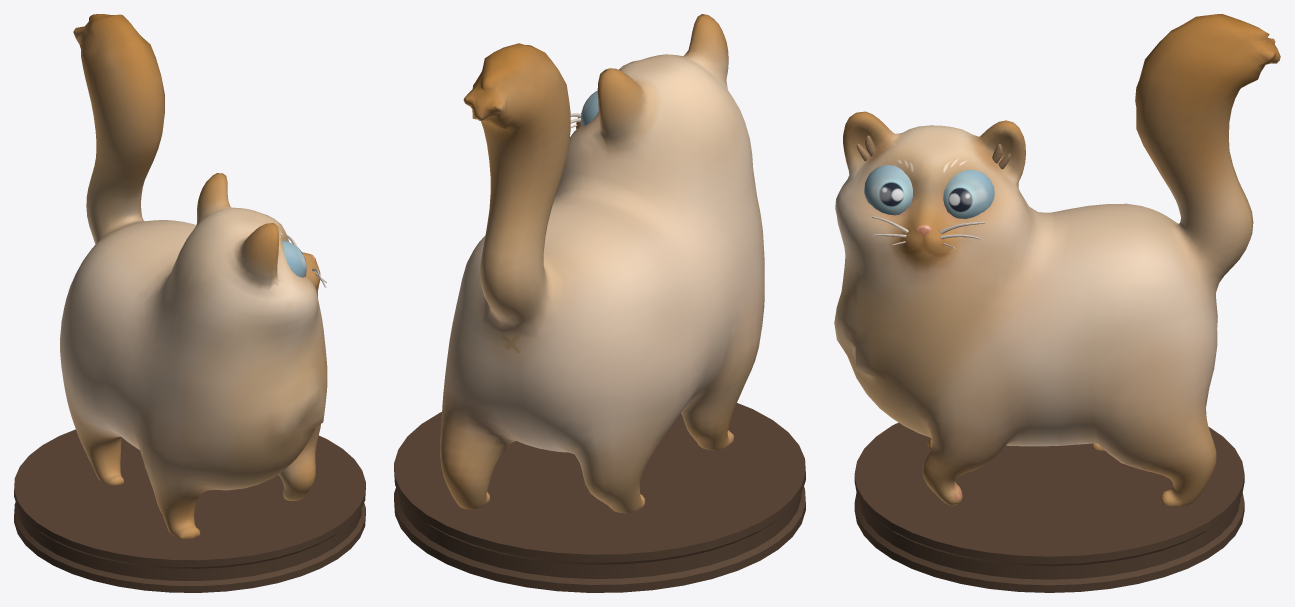
Rendered from cat.glb.
3 renders of one model, left to right at view 1: azimuth 30°, elevation 25°; view 2: azimuth 150°, elevation 25°; view 3: azimuth 270°, elevation 25°, orthographic. The views are drawn at different scales.
Visible parts, largest first — view 1: Object_2, Object_3; view 2: Object_2, Object_3; view 3: Object_2, Object_3.
Boxes of the visible parts, x1,y1,x2,y2 form: Object_2: (14,14,365,560); Object_3: (14,235,365,592); Object_2: (394,14,805,554); Object_3: (394,113,805,592); Object_2: (834,14,1280,556); Object_3: (854,135,1244,592).
Size of the model in its own units: 2.23 by 3.11 by 2.55.
Materials: 1 (1 with a texture image).
